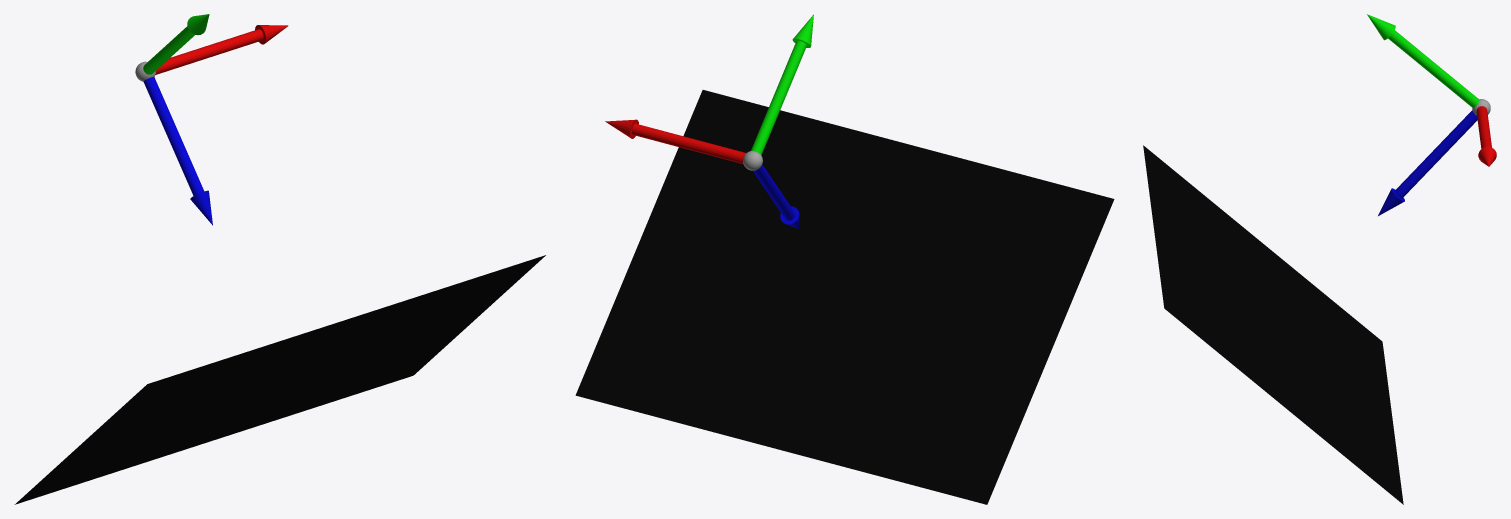
The picture shows the model from 3 angles, left to right: view 1: azimuth 30°, elevation 25°; view 2: azimuth 150°, elevation 25°; view 3: azimuth 270°, elevation 25°; orthographic projection. The views are drawn at different scales.
Bounding box in the file's own units: 0.3481 × 0.3646 × 0.2849.
